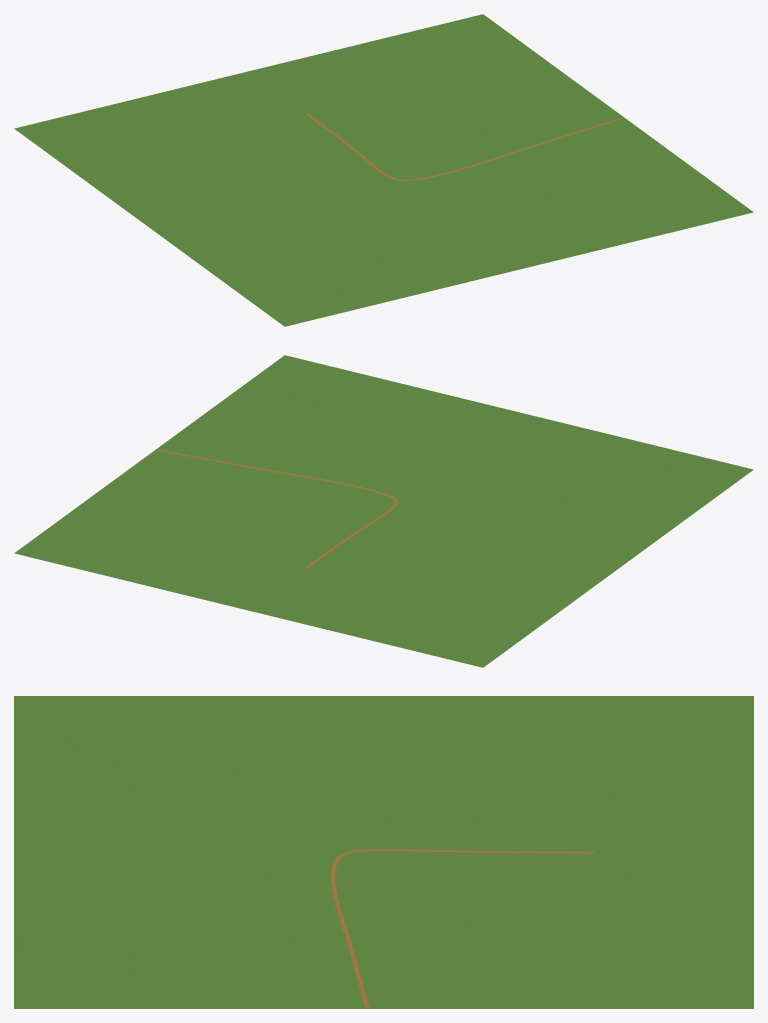
The model's file is path_intro1c.fbx.
3 renders of one model, top to bottom at view 1: azimuth 30°, elevation 25°; view 2: azimuth 150°, elevation 25°; view 3: azimuth 270°, elevation 25°, orthographic. The views are drawn at different scales.
Visible parts, largest first — view 1: groundPlaneBase, pathBase_lvl1; view 2: groundPlaneBase, pathBase_lvl1; view 3: groundPlaneBase, pathBase_lvl1.
Part boxes in pixels (left/top/right/bottom): groundPlaneBase: left=14, top=14, right=753, bottom=326; pathBase_lvl1: left=304, top=113, right=624, bottom=182; groundPlaneBase: left=14, top=355, right=753, bottom=667; pathBase_lvl1: left=156, top=448, right=399, bottom=568; groundPlaneBase: left=14, top=696, right=753, bottom=1008; pathBase_lvl1: left=328, top=848, right=594, bottom=1007.
Bounding box in the file's own units: 4576 × 0.8149 × 4576.
